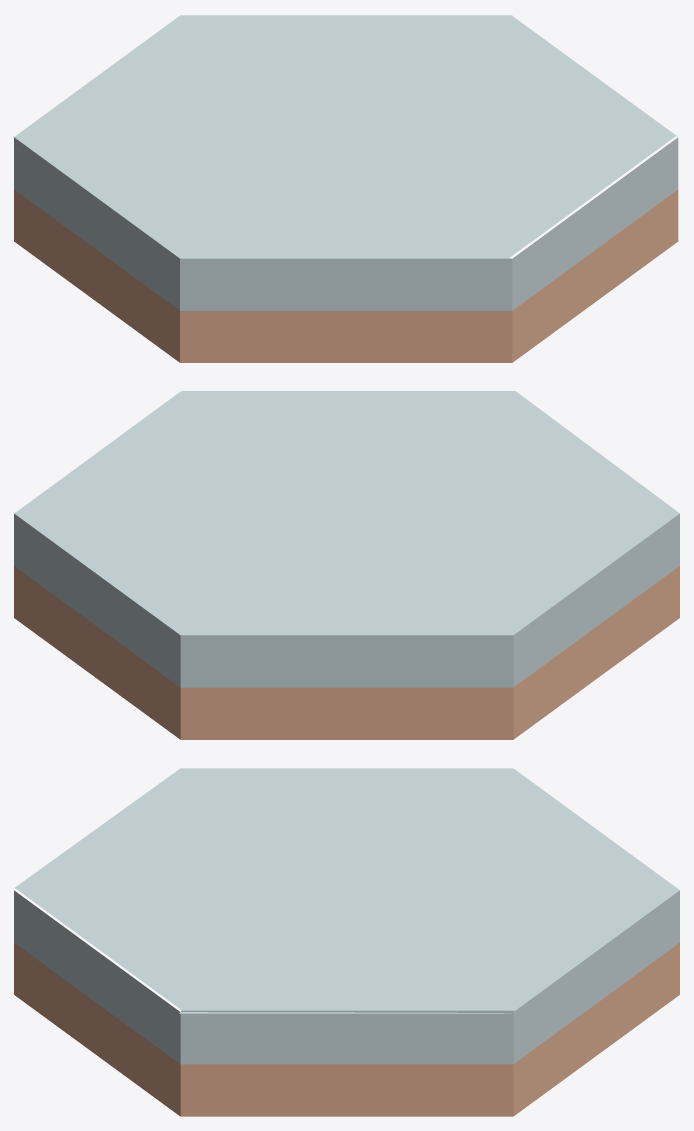
File: tile_wireframe_in_godot.glb
3 views of the same model, one above another, from view 1: azimuth 30°, elevation 25°; view 2: azimuth 150°, elevation 25°; view 3: azimuth 270°, elevation 25° (orthographic).
Parts seen in each view (by area): view 1: stone.001; view 2: stone.001; view 3: stone.001.
Part boxes in pixels (bbox=[...]): stone.001: bbox=[14, 15, 678, 362]; stone.001: bbox=[14, 391, 679, 739]; stone.001: bbox=[14, 768, 679, 1116].
Size of the model in its own units: 1 by 0.2023 by 1.15.
